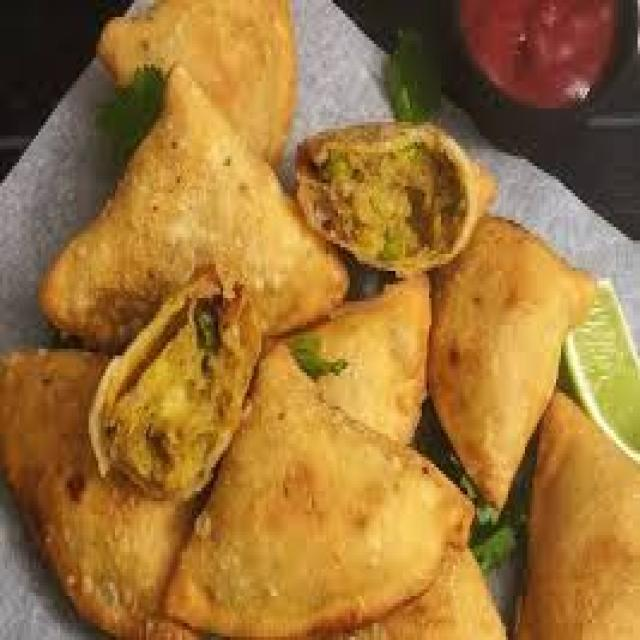SAMOSA: (163, 342, 470, 633), (38, 61, 345, 349), (0, 352, 194, 637), (429, 217, 590, 505), (91, 281, 261, 498), (98, 0, 295, 163), (295, 122, 494, 274), (515, 393, 638, 637), (288, 278, 427, 437), (340, 549, 503, 637)
